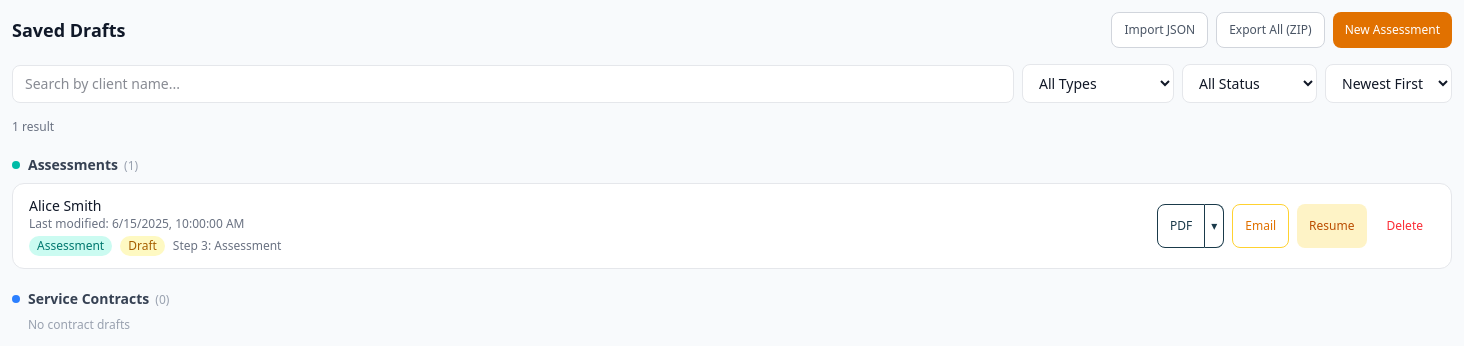
Test: DraftManager › export menu › shows export dropdown when ▾ is clicked
This screenshot has width=1464, height=346.
Click the button named "More export options" at point(1215, 226), box [1205,204,1224,248]
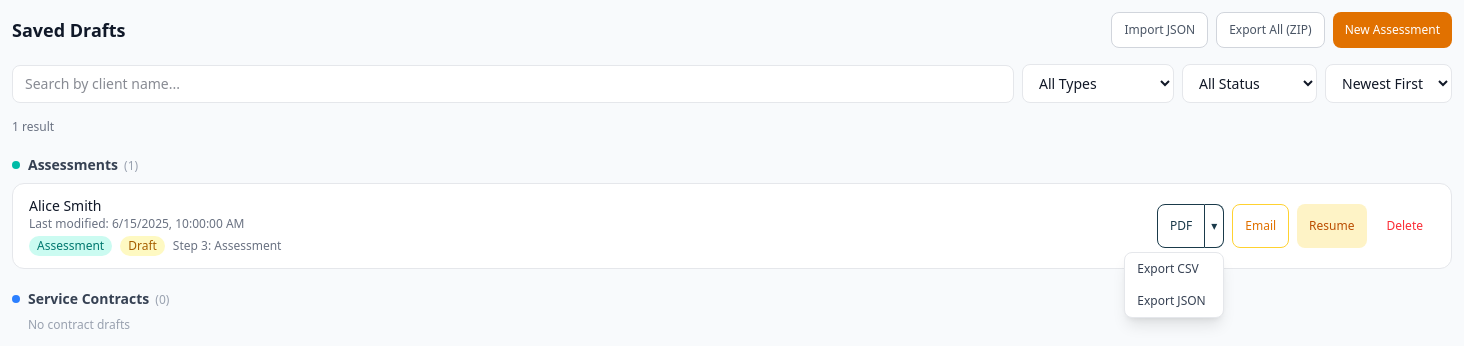
Result: the menu item "Export CSV" is shown at [1125,253,1223,285]
Result: the menu item "Export JSON" is shown at [1125,285,1223,317]
